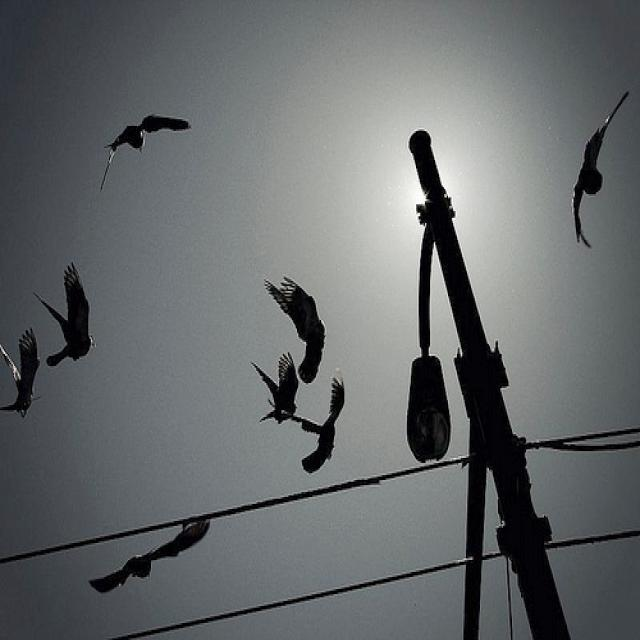pole: (406, 129, 570, 639)
wire: (109, 526, 639, 639), (0, 451, 469, 568)
